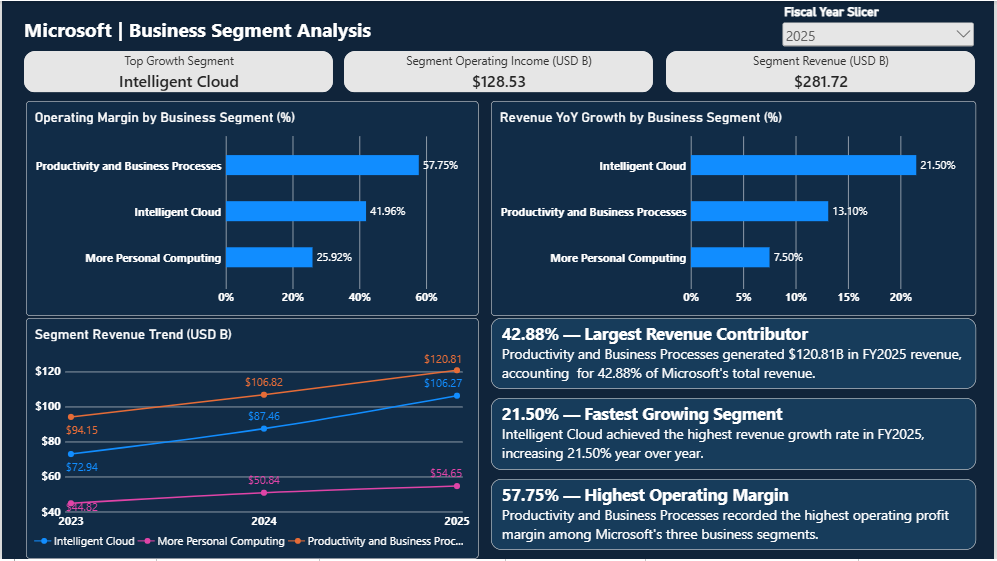

What the dashboard file says about the page in this screenshot:
{"tool":"powerbi","page":{"name":"Business Segment Analysis","canvas":[1920,1080],"ordinal":2},"visuals":[{"type":"textbox","box":[43.4,28.2,687.5,69.4],"z":0},{"type":"slicer","fields":{"Values":["Dim_FiscalYear.FiscalYear"]},"box":[1505.1,8.7,379.5,88.9],"z":1000},{"type":"cardVisual","fields":{"Data":["Key Measures.Segment Operating Income (USD B)"]},"box":[661.4,97.6,598.6,80.2],"z":2000},{"type":"cardVisual","fields":{"Data":["Key Measures.Segment Revenue (USD B)"]},"box":[1286,97.6,598.6,80.2],"z":3000},{"type":"cardVisual","fields":{"Data":["Key Measures.Top Growth Segment"]},"box":[43.4,97.6,598.6,80.2],"z":4000},{"type":"clusteredBarChart","title":"Operating Margin by Business Segment (%)","fields":{"Category":["Fact_Segments.Segment"],"Y":["Key Measures.Segment Operating Margin %"]},"box":[45.5,193,876.1,416.4],"z":5000},{"type":"clusteredBarChart","title":"Revenue YoY Growth by Business Segment (%)","fields":{"Category":["Fact_Segments.Segment"],"Y":["Key Measures.Segment Revenue YoY Growth %"]},"box":[945.5,193,939,416.4],"z":6000},{"type":"lineChart","title":"Segment Revenue Trend (USD B)","fields":{"Category":["Dim_FiscalYear.FiscalYear"],"Series":["Fact_Segments.Segment"],"Y":["Key Measures.Segment Revenue (USD B)"]},"box":[45.5,613.7,876.1,466.3],"z":7000},{"type":"textbox","box":[945.5,613.7,939,136.6],"z":8000},{"type":"textbox","box":[945.5,767.7,939,138.8],"z":9000},{"type":"textbox","box":[945.5,926,939,136.6],"z":10000}]}

Visuals, with their boxes in screenshot pixels (x1, y1, x2, y2), scaled from the page's 1920x1080 canvas onto the 997x561 screenshot:
textbox: [x1=23, y1=15, x2=380, y2=51]
slicer - Dim_FiscalYear.FiscalYear: [x1=782, y1=5, x2=979, y2=51]
cardVisual - Key Measures.Segment Operating Income (USD B): [x1=343, y1=51, x2=654, y2=92]
cardVisual - Key Measures.Segment Revenue (USD B): [x1=668, y1=51, x2=979, y2=92]
cardVisual - Key Measures.Top Growth Segment: [x1=23, y1=51, x2=333, y2=92]
"Operating Margin by Business Segment (%)" clusteredBarChart: [x1=24, y1=100, x2=479, y2=317]
"Revenue YoY Growth by Business Segment (%)" clusteredBarChart: [x1=491, y1=100, x2=979, y2=317]
"Segment Revenue Trend (USD B)" lineChart: [x1=24, y1=319, x2=479, y2=560]
textbox: [x1=491, y1=319, x2=979, y2=390]
textbox: [x1=491, y1=399, x2=979, y2=471]
textbox: [x1=491, y1=481, x2=979, y2=552]
